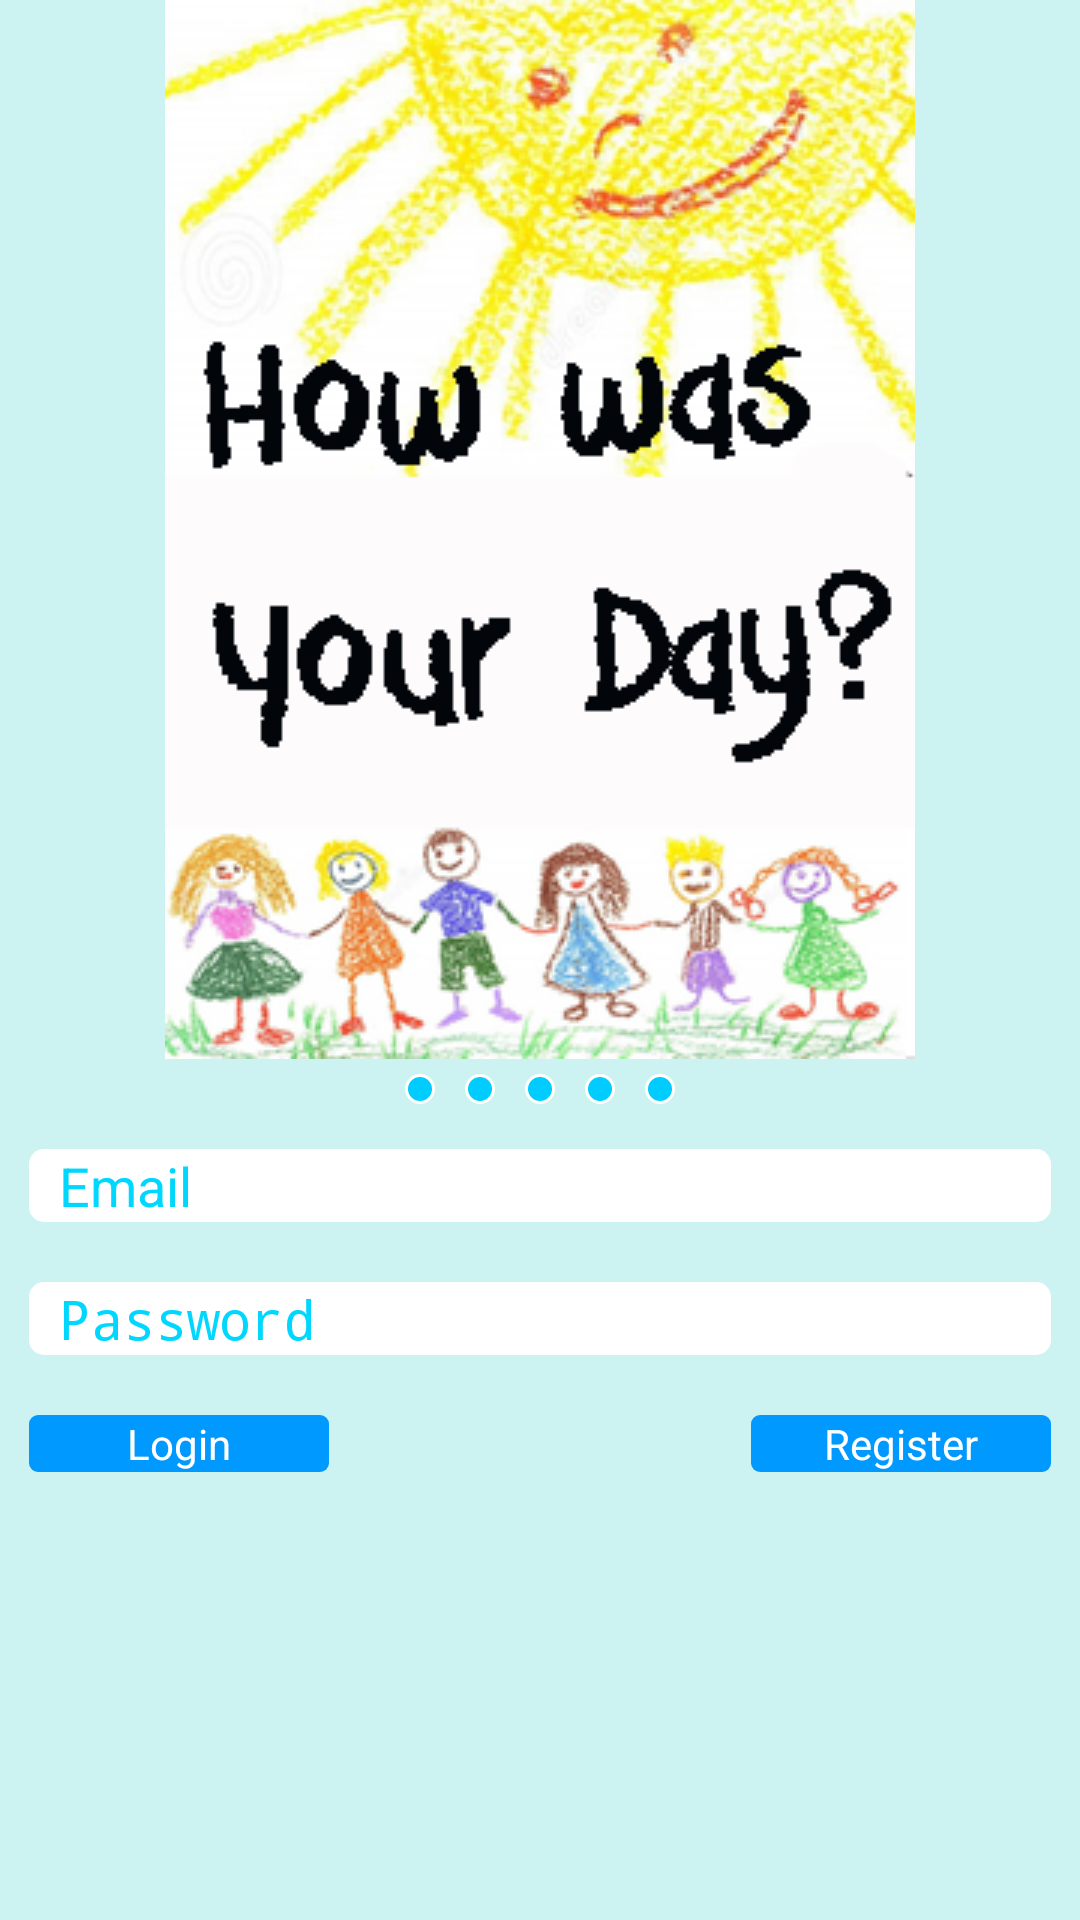

Icon click points for this 1080px×1920px phone screenshot, format (x=x, y=y):
dot: (x=420, y=1089), (x=480, y=1089), (x=540, y=1089), (x=600, y=1089), (x=660, y=1089)
